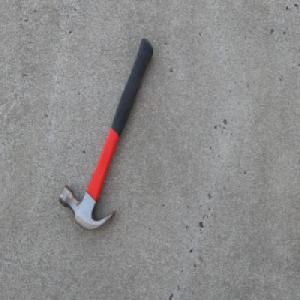Hammer: (59, 36, 154, 232)
